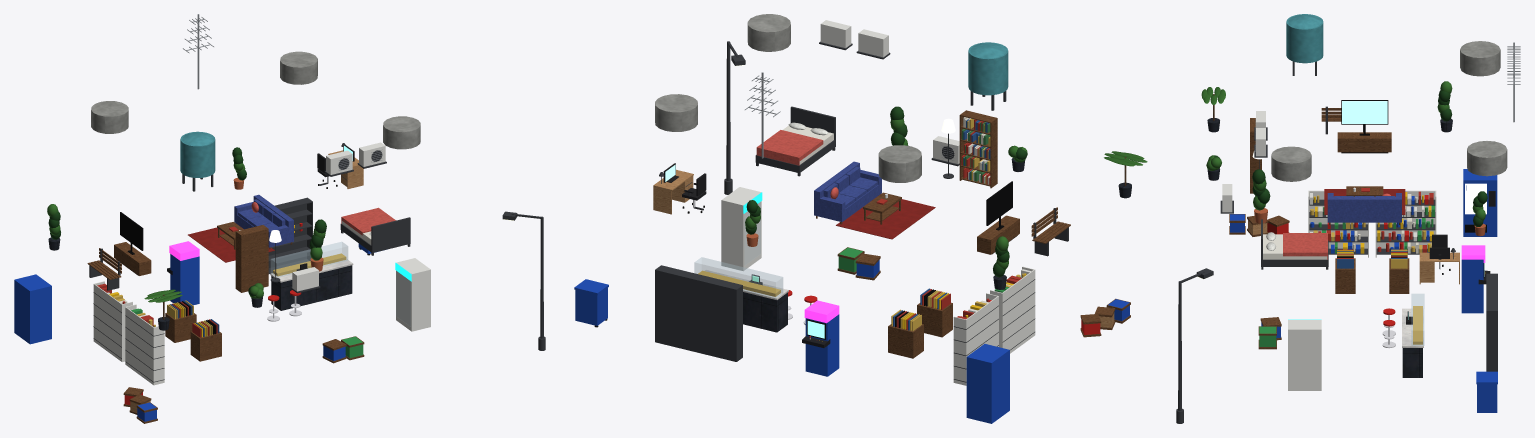
File: i_shop_neon_corner.gltf
3 views of the same model, side by side, from view 1: azimuth 30°, elevation 25°; view 2: azimuth 150°, elevation 25°; view 3: azimuth 270°, elevation 25° (orthographic). The views are drawn at different scales.
Visible parts, largest first — view 1: I_shop_neon_corner; view 2: I_shop_neon_corner; view 3: I_shop_neon_corner.
Part boxes in pixels (box(x1,y1,x2,y2)): I_shop_neon_corner: box(14, 14, 545, 423); I_shop_neon_corner: box(574, 14, 1147, 423); I_shop_neon_corner: box(1176, 14, 1520, 423).
Bounding box in the file's own units: 13.94 × 9.25 × 10.22.
42 materials, 12 textured.
